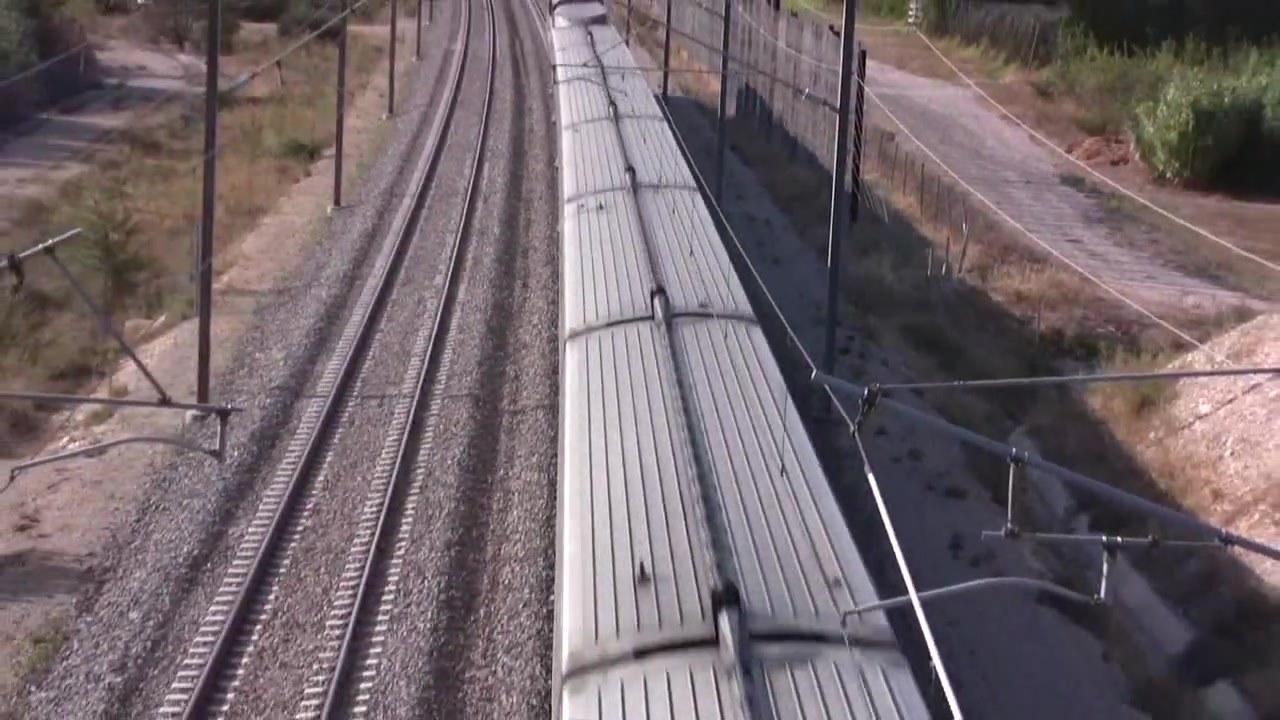train: (548, 1, 943, 720)
